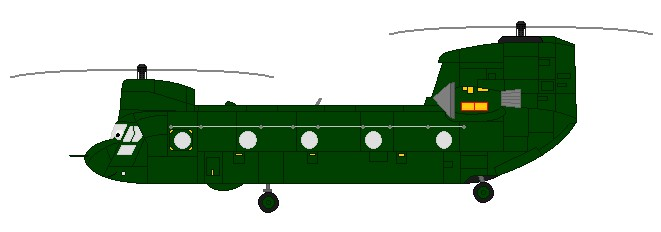chinook: (57, 20, 650, 216)
